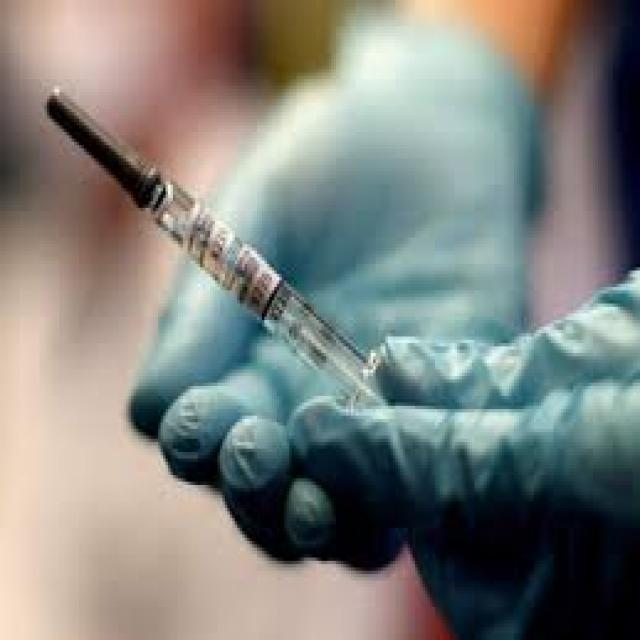syringe: (52, 79, 384, 435)
